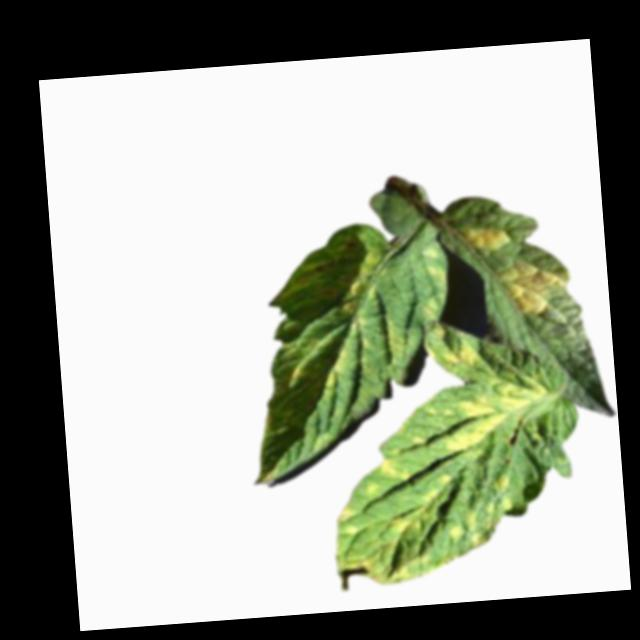Leaf_Mold: (331, 493, 445, 589), (440, 368, 553, 453), (495, 255, 572, 319), (337, 251, 384, 317), (462, 221, 513, 253), (483, 473, 516, 515), (380, 447, 413, 487), (449, 507, 481, 548), (383, 314, 408, 363), (443, 341, 477, 371), (425, 263, 449, 287), (286, 363, 318, 381)
